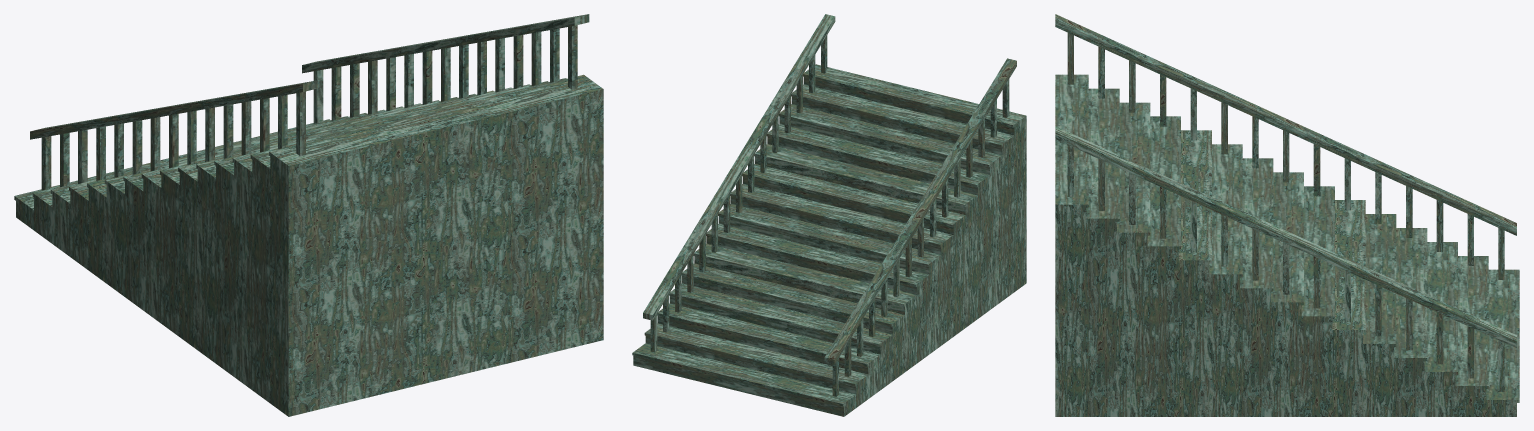
The model's file is Stairs_4X4.FBX.
The picture shows the model from 3 angles, left to right: view 1: azimuth 30°, elevation 25°; view 2: azimuth 150°, elevation 25°; view 3: azimuth 270°, elevation 25°; orthographic projection. The views are drawn at different scales.
Parts seen in each view (by area): view 1: Box006; view 2: Box006; view 3: Box006.
Part boxes in pixels (x1,y1,x2,y2): Box006: [14, 14, 603, 416]; Box006: [632, 14, 1026, 416]; Box006: [1055, 14, 1519, 416].
Size of the model in its own units: 400 by 400 by 603.
